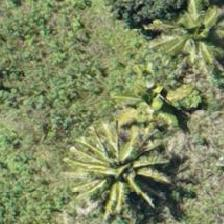coconut_tree: (60, 128, 150, 218), (151, 0, 223, 77)
